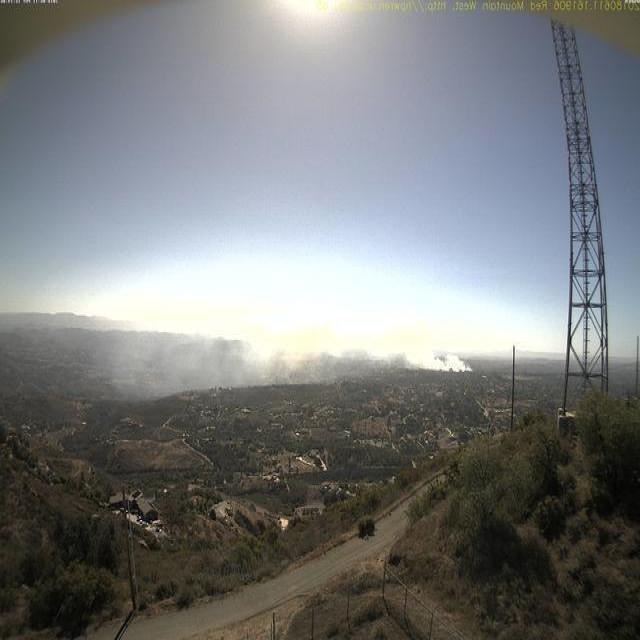smoke: (175, 321, 476, 395)
